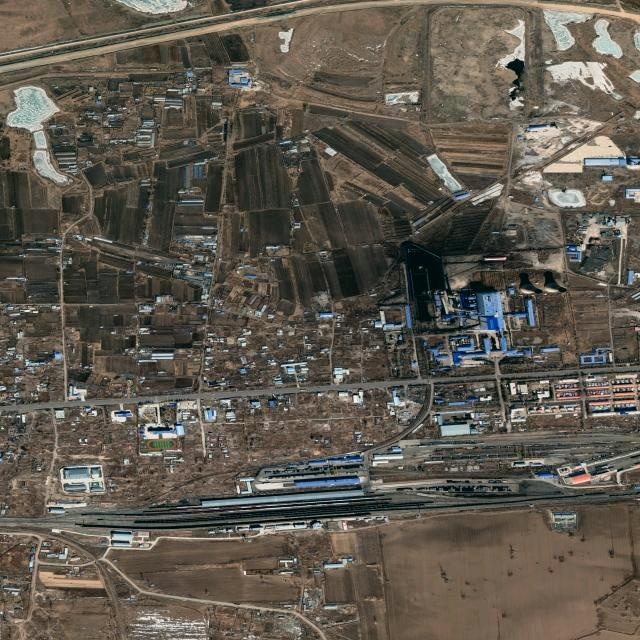coal_fired_power_plant: (407, 251, 567, 369)
